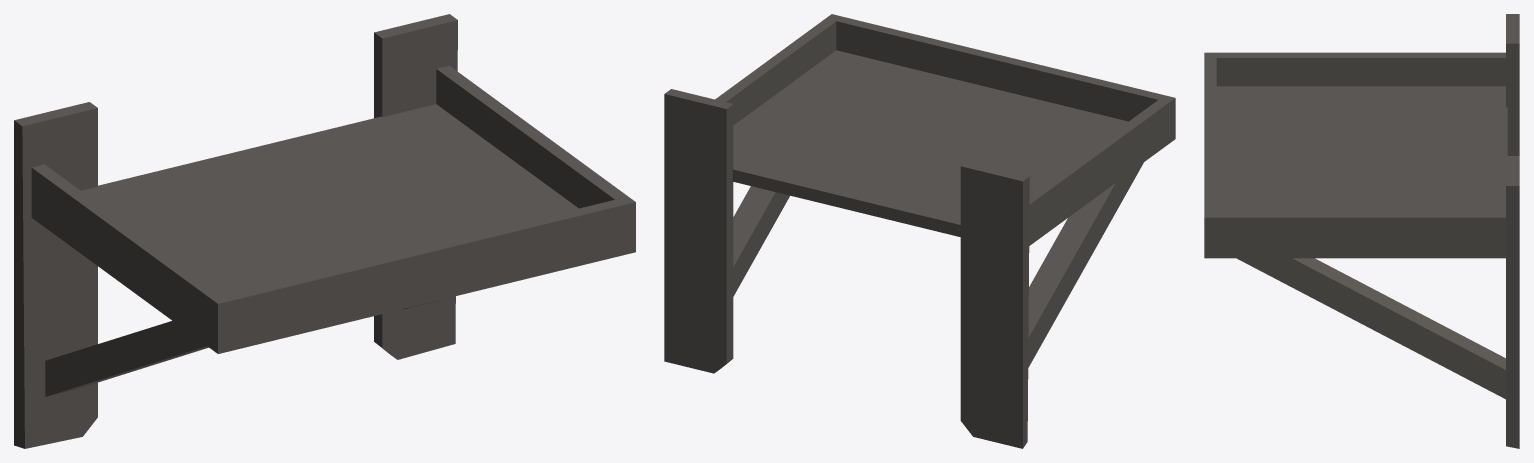
The model's file is SM_Prop_Airconditioner_Mount_04.glb.
3 views of the same model, side by side, from view 1: azimuth 30°, elevation 25°; view 2: azimuth 150°, elevation 25°; view 3: azimuth 270°, elevation 25° (orthographic). The views are drawn at different scales.
Parts seen in each view (by area): view 1: SM_Prop_Airconditioner_Mount_04; view 2: SM_Prop_Airconditioner_Mount_04; view 3: SM_Prop_Airconditioner_Mount_04.
Boxes of the visible parts, x1=… form: SM_Prop_Airconditioner_Mount_04: x1=14, y1=14, x2=635, y2=448; SM_Prop_Airconditioner_Mount_04: x1=664, y1=14, x2=1175, y2=448; SM_Prop_Airconditioner_Mount_04: x1=1204, y1=14, x2=1519, y2=448.
Bounding box in the file's own units: 0.8934 × 0.6373 × 0.6921.
1 material, 1 textured.
